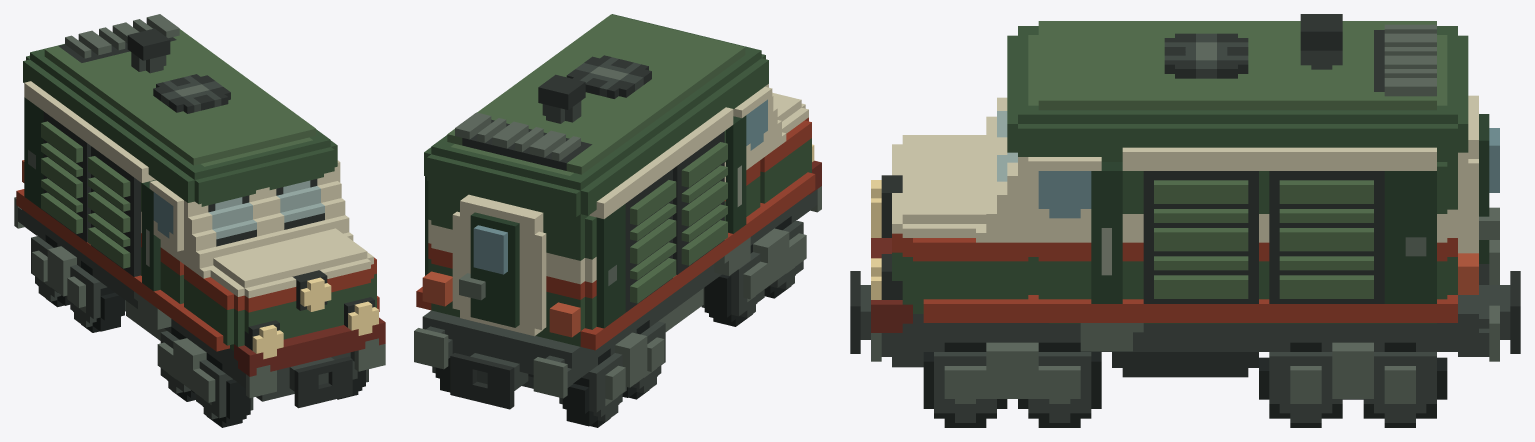
Rendered from locomotive.glb.
3 views of the same model, side by side, from view 1: azimuth 30°, elevation 25°; view 2: azimuth 150°, elevation 25°; view 3: azimuth 270°, elevation 25° (orthographic). The views are drawn at different scales.
Parts seen in each view (by area): view 1: locomotive; view 2: locomotive; view 3: locomotive.
Boxes of the visible parts, x1=… form: locomotive: x1=14, y1=14, x2=385, y2=427; locomotive: x1=414, y1=14, x2=821, y2=427; locomotive: x1=850, y1=14, x2=1520, y2=427.
Bounding box in the file's own units: 3.12 × 4.56 × 7.68.
